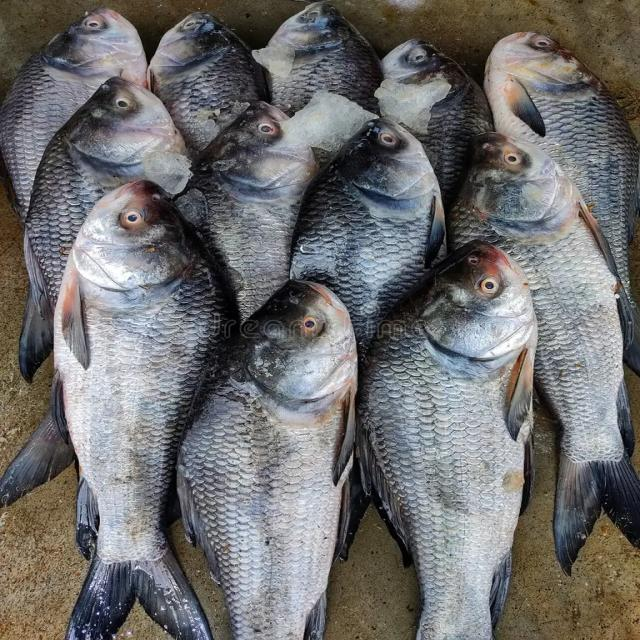Catla: (51, 182, 238, 639), (356, 240, 539, 639), (175, 278, 360, 639)
